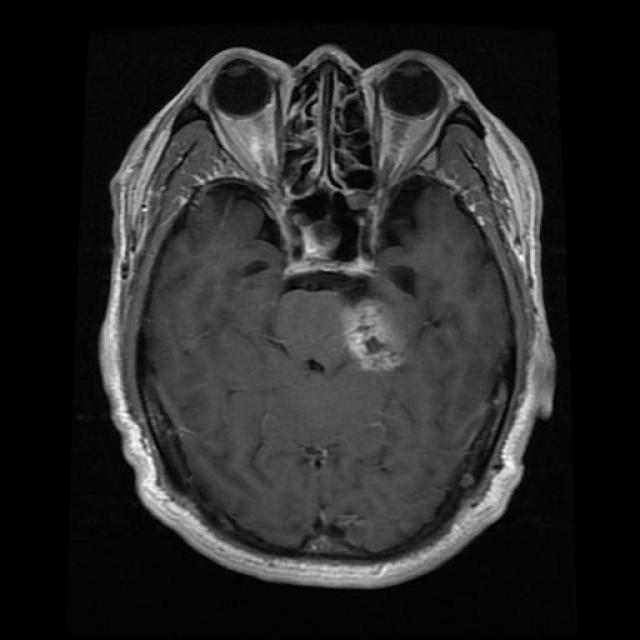Brain-Tumor: (328, 290, 424, 394)
eye: (196, 36, 306, 218), (362, 38, 458, 222)
